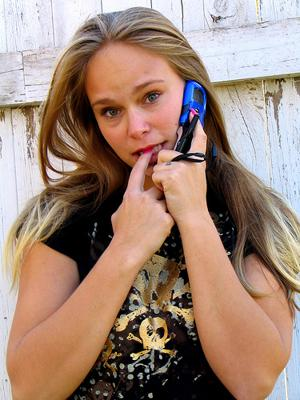person: (7, 8, 298, 400)
